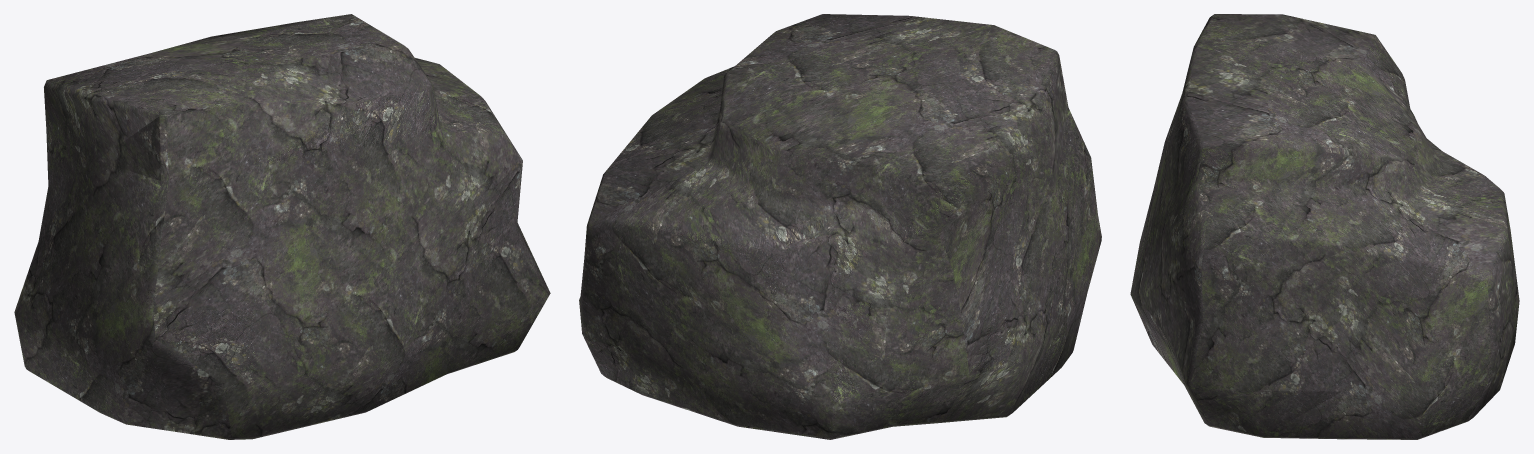
The model's file is big_rock.fbx.
3 views of the same model, side by side, from view 1: azimuth 30°, elevation 25°; view 2: azimuth 150°, elevation 25°; view 3: azimuth 270°, elevation 25° (orthographic). The views are drawn at different scales.
Parts seen in each view (by area): view 1: RockLargeBAlt.001; view 2: RockLargeBAlt.001; view 3: RockLargeBAlt.001.
Boxes of the visible parts, x1,y1,x2,y2 form: RockLargeBAlt.001: (14,14,550,439); RockLargeBAlt.001: (579,14,1101,439); RockLargeBAlt.001: (1130,14,1519,439).
Bounding box in the file's own units: 194 × 136 × 176.
1 material, 1 textured.
